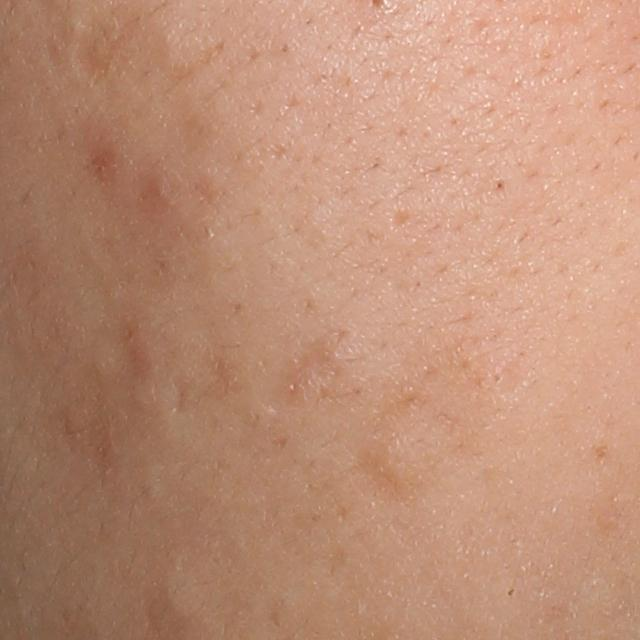atrophic_scar: (351, 436, 419, 508), (67, 11, 127, 89), (290, 335, 339, 396), (170, 378, 193, 420)
